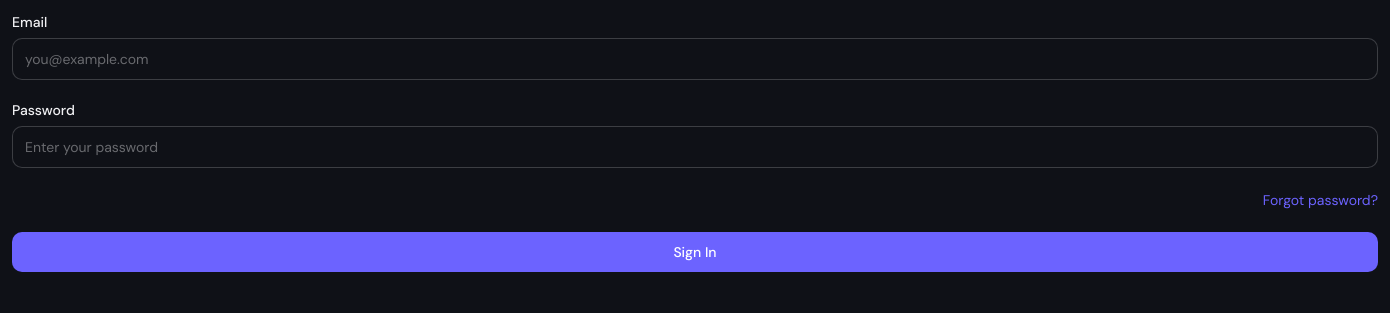
Test: LoginForm › 10.2 email validation on blur shows error for invalid email
This screenshot has width=1390, height=313.
Type "not-an-email" into the field labelled "Email" at (695, 59), box [12,38,1378,80]
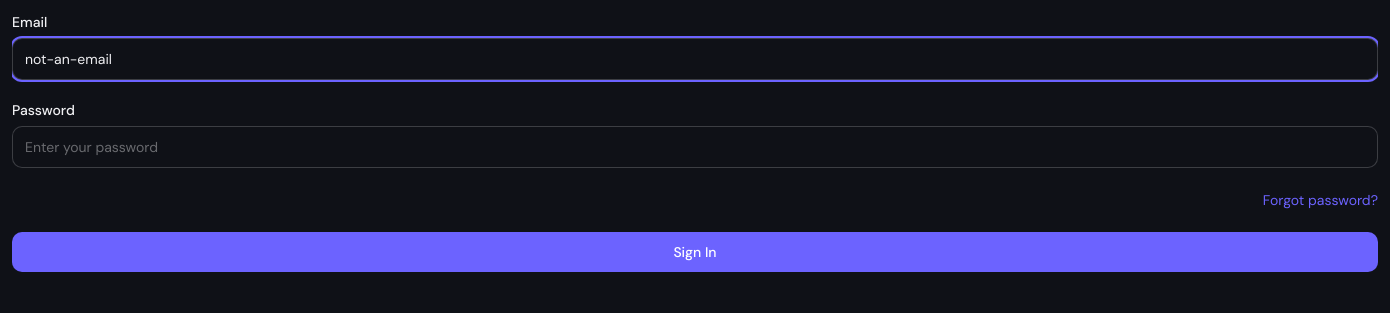
Press Tab
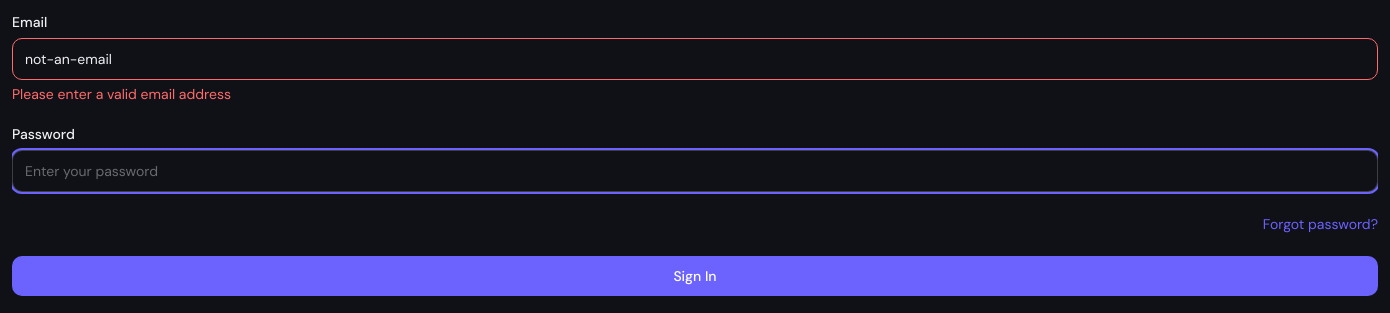
Check: the text "Please enter a valid email address" is shown, box [12,85,231,103]
